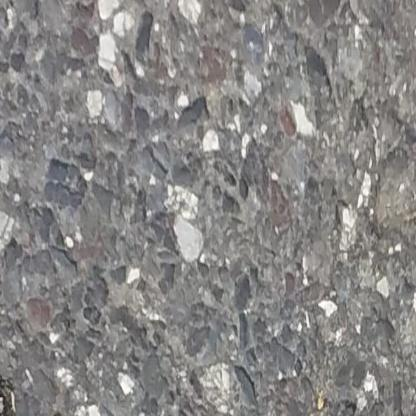Cracks: (0, 361, 69, 416)
